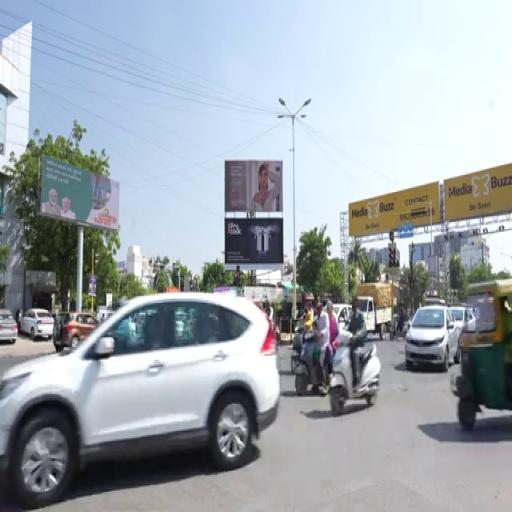Car: (0, 293, 279, 509), (405, 306, 460, 371), (53, 312, 97, 351), (20, 309, 54, 341), (450, 306, 475, 332), (0, 309, 17, 344), (333, 305, 351, 324)
